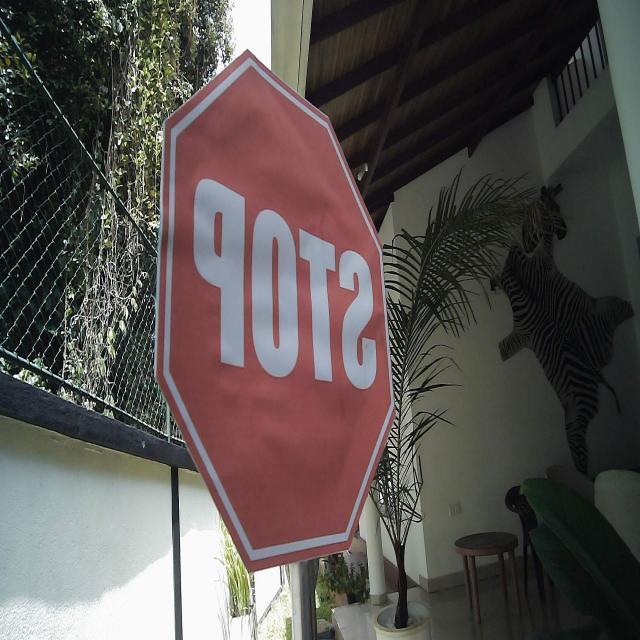stop: (153, 44, 397, 578)
